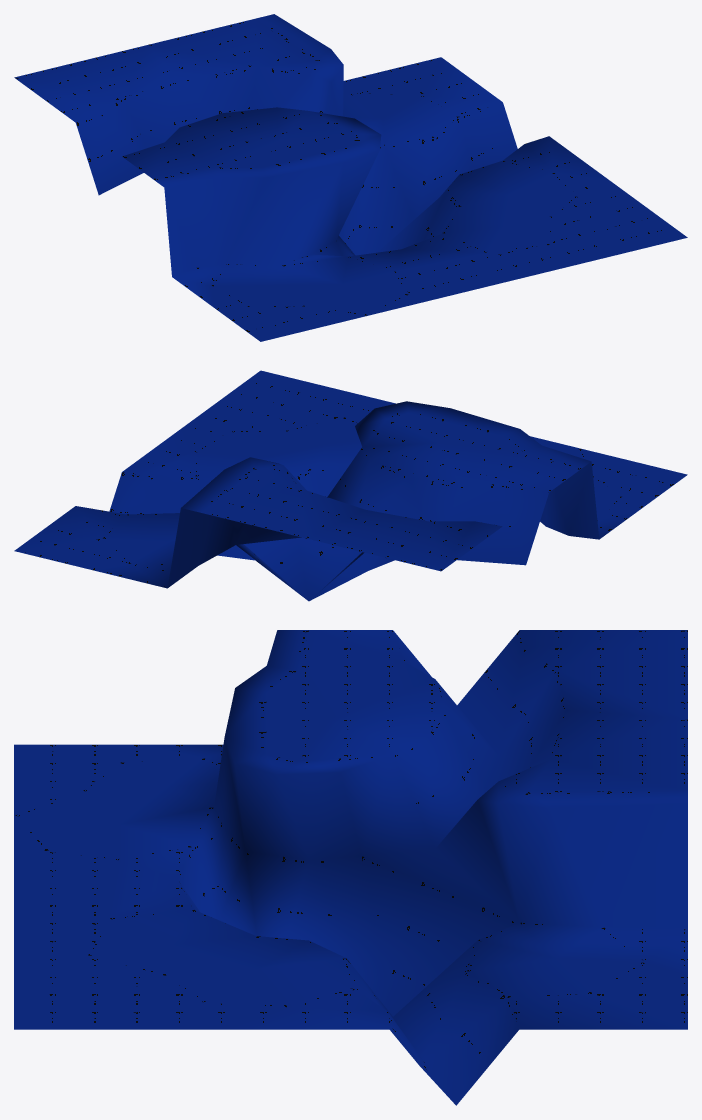
Rendered from GRD_S_C2_R2_1.fbx.
3 views of the same model, one above another, from view 1: azimuth 30°, elevation 25°; view 2: azimuth 150°, elevation 25°; view 3: azimuth 270°, elevation 25° (orthographic). The views are drawn at different scales.
Visible parts, largest first — view 1: material_00032000, material_C0012000, material_00022000, material_C0042000; view 2: material_00032000, material_C0012000, material_00022000, material_C0042000; view 3: material_00032000, material_C0012000, material_00022000, material_C0042000.
Boxes of the visible parts, x1,y1,x2,y2 form: material_00032000: (14, 19, 687, 341); material_C0012000: (76, 67, 517, 256); material_00022000: (153, 14, 381, 276); material_C0042000: (211, 93, 578, 315); material_00032000: (14, 370, 687, 588); material_C0012000: (109, 447, 548, 601); material_00022000: (167, 401, 599, 587); material_C0042000: (102, 417, 622, 565); material_00032000: (14, 630, 687, 1029); material_C0012000: (177, 630, 566, 1105); material_00022000: (214, 630, 687, 926); material_C0042000: (14, 758, 645, 1007).
Bounding box in the file's own units: 12800 × 4800 × 12800.
